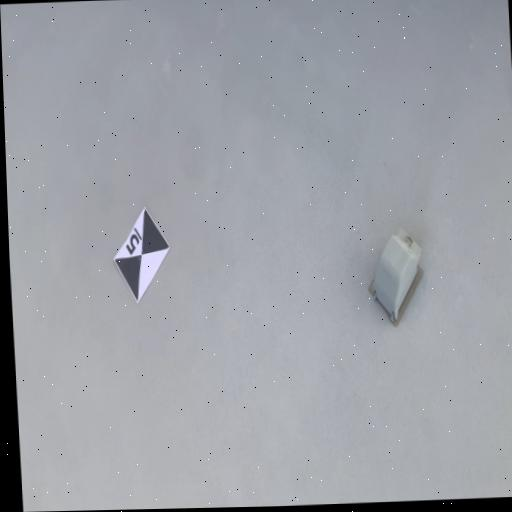target5: (114, 205, 170, 306)
